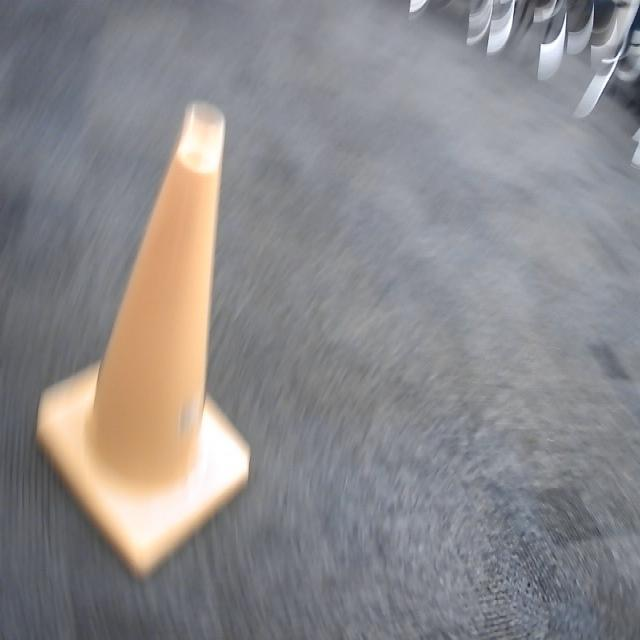cone: (35, 108, 254, 578)
